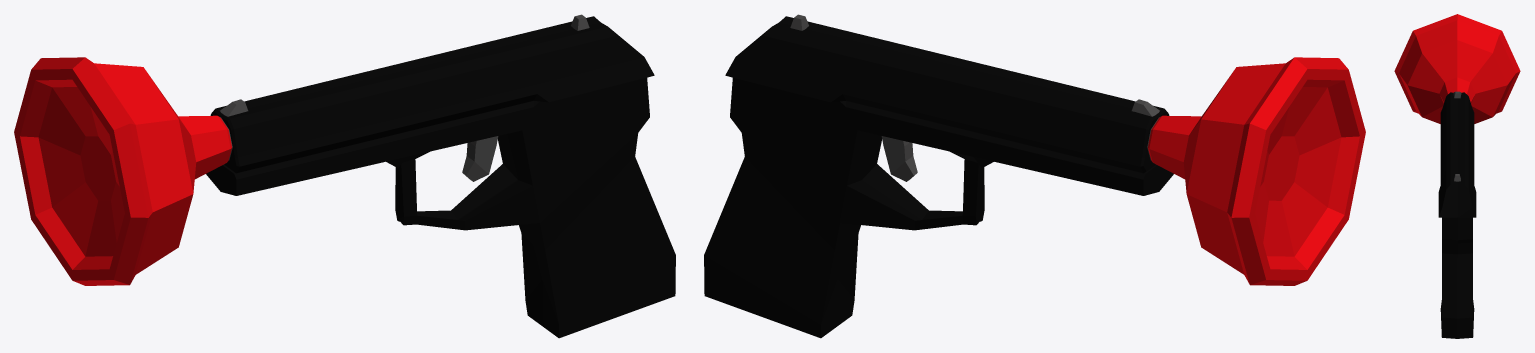
The model's file is Grapple.fbx.
3 views of the same model, side by side, from view 1: azimuth 30°, elevation 25°; view 2: azimuth 150°, elevation 25°; view 3: azimuth 270°, elevation 25° (orthographic). The views are drawn at different scales.
Visible parts, largest first — view 1: Cube, GrappleHead, Cube.003; view 2: Cube, GrappleHead, Cube.003; view 3: GrappleHead, Cube.
Part boxes in pixels (x1,y1,x2,y2): Cube: [206, 16, 675, 338]; GrappleHead: [14, 57, 232, 285]; Cube.003: [462, 136, 498, 181]; Cube: [704, 16, 1173, 338]; GrappleHead: [1147, 57, 1365, 285]; Cube.003: [881, 136, 917, 181]; GrappleHead: [1394, 14, 1520, 123]; Cube: [1438, 92, 1476, 338].
Bounding box in the file's own units: 554 × 341 × 204.
